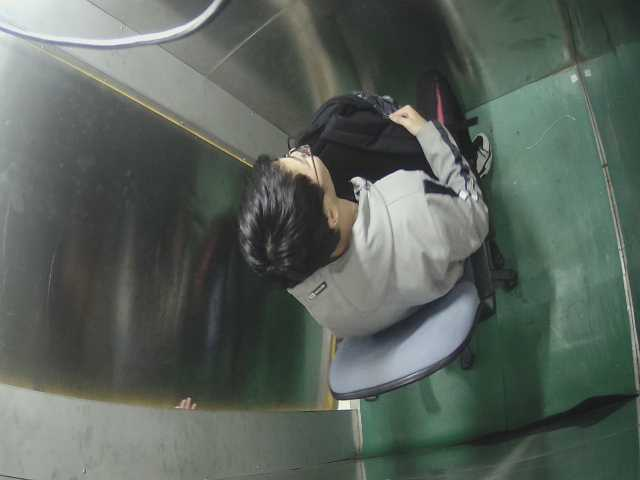bag: (294, 82, 421, 175)
chair: (296, 187, 522, 417)
person: (195, 143, 506, 340)
